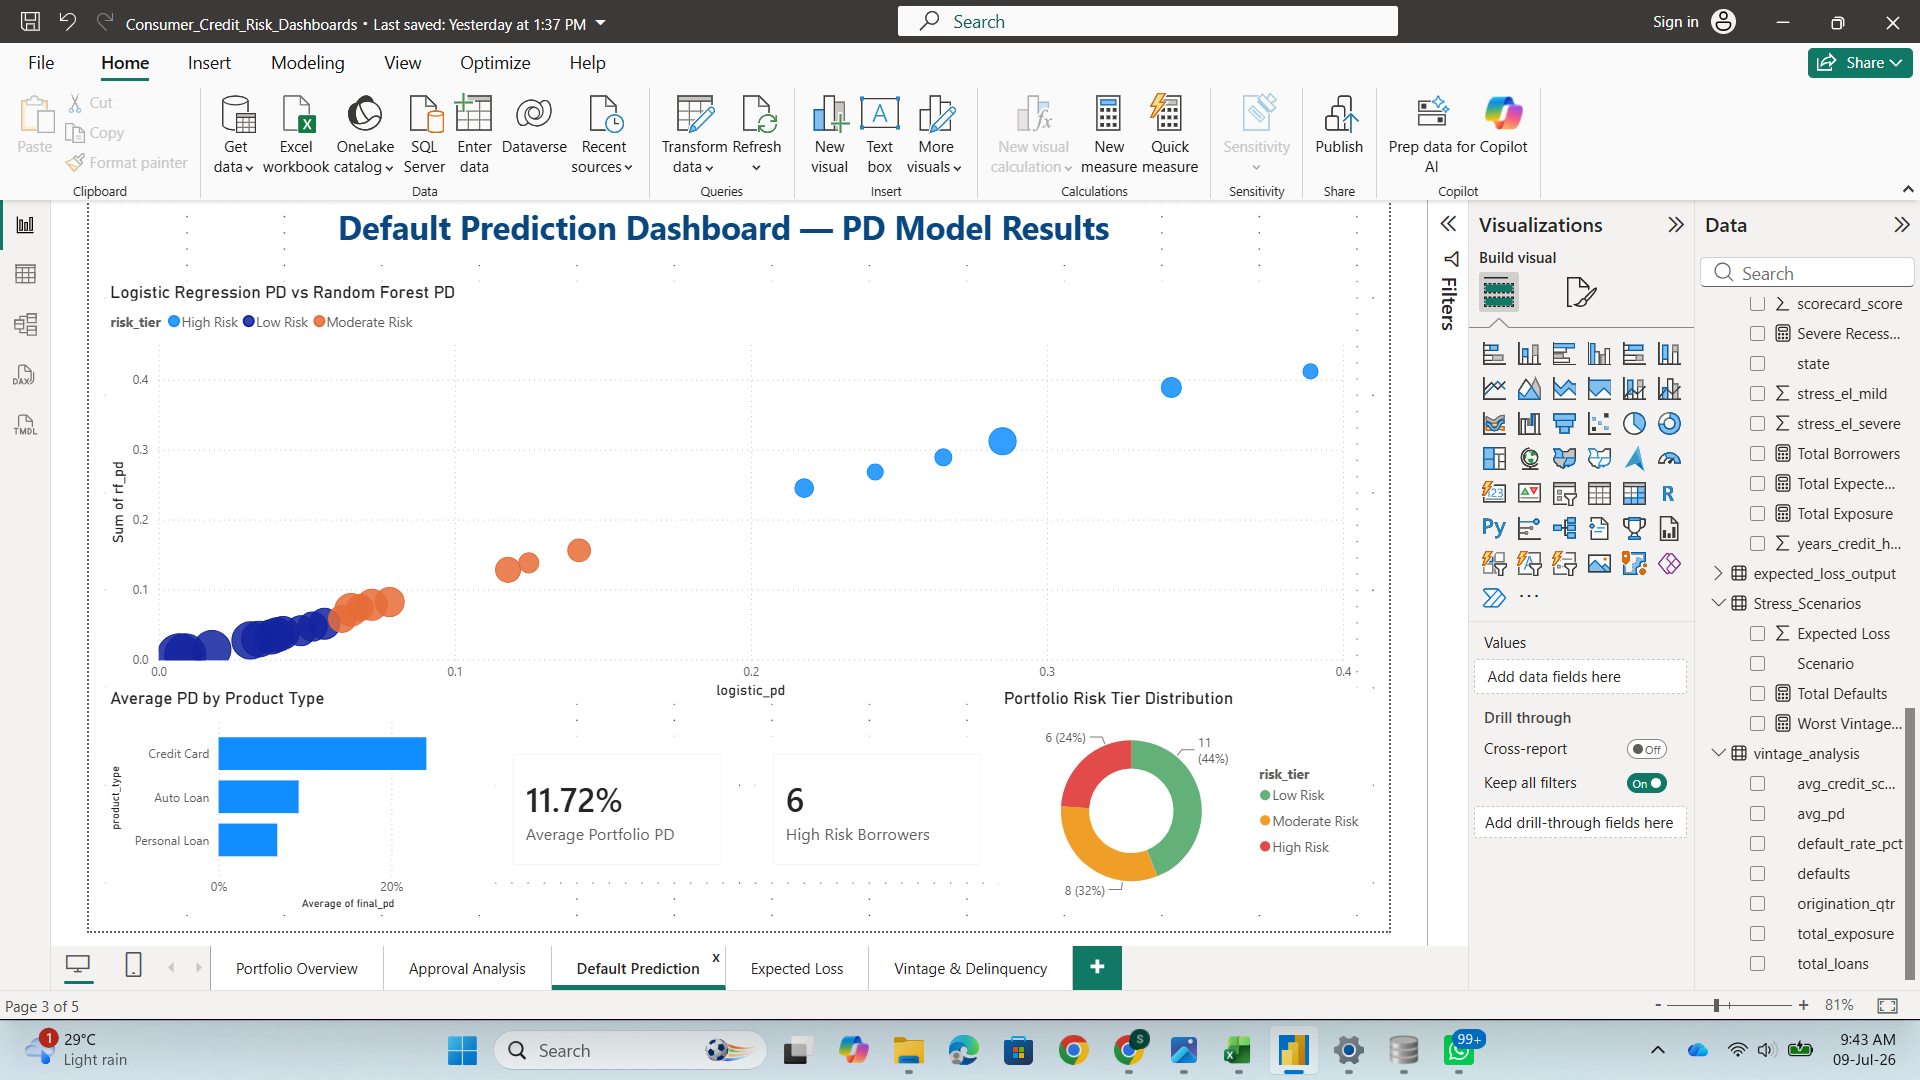

The page's visual inventory and layout, read from the dashboard file:
{"tool":"powerbi","page":{"name":"Default Prediction","canvas":[1280,720],"ordinal":2},"visuals":[{"type":"textbox","box":[240,0,800,64],"z":0},{"type":"scatterChart","title":"Logistic Regression PD vs Random Forest PD","fields":{"X":["borrowers_data.logistic_pd"],"Y":["Sum(borrowers_data.rf_pd)"],"Size":["Sum(borrowers_data.ead)"],"Series":["borrowers_data.risk_tier"]},"box":[16,80,1232,416],"z":1000},{"type":"cardVisual","fields":{"Data":["Avg(borrowers_data.final_pd)"]},"box":[400,528,240,144],"z":2000},{"type":"cardVisual","fields":{"Data":["borrowers_data.High Risk Borrowers"]},"box":[656,528,240,144],"z":3000},{"type":"donutChart","title":"Portfolio Risk Tier Distribution","fields":{"Category":["borrowers_data.risk_tier"],"Y":["CountNonNull(borrowers_data.customer_id)"]},"box":[896,480,368,224],"z":4000},{"type":"clusteredBarChart","title":"Average PD by Product Type","fields":{"Category":["borrowers_data.product_type"],"Y":["Avg(borrowers_data.final_pd)"]},"box":[16,480,384,224],"z":5000}]}

Visuals, with their boxes on the page's 1280x720 design canvas (x1, y1, x2, y2). These are canvas units, not pixel positions in the 1920x1080 screenshot, which may show the page scaled, cropped or inside an application window:
textbox: left=240, top=0, right=1040, bottom=64
"Logistic Regression PD vs Random Forest PD" scatterChart: left=16, top=80, right=1248, bottom=496
cardVisual - Avg(borrowers_data.final_pd): left=400, top=528, right=640, bottom=672
cardVisual - borrowers_data.High Risk Borrowers: left=656, top=528, right=896, bottom=672
"Portfolio Risk Tier Distribution" donutChart: left=896, top=480, right=1264, bottom=704
"Average PD by Product Type" clusteredBarChart: left=16, top=480, right=400, bottom=704
